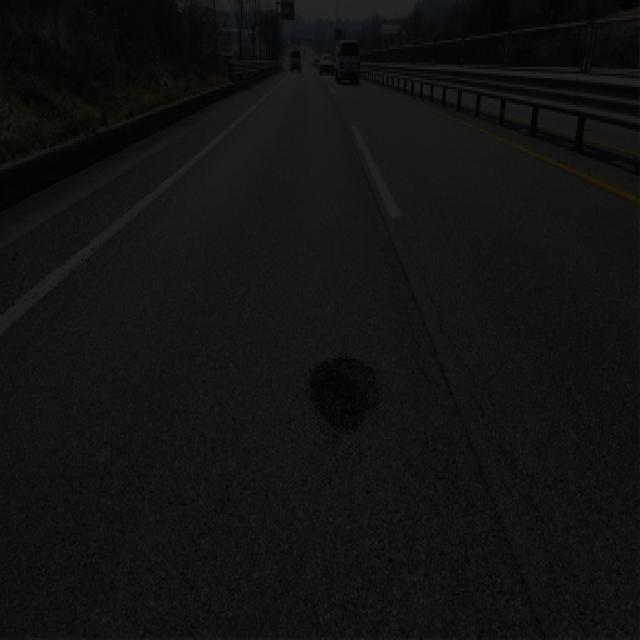pothole: (282, 318, 415, 492)
